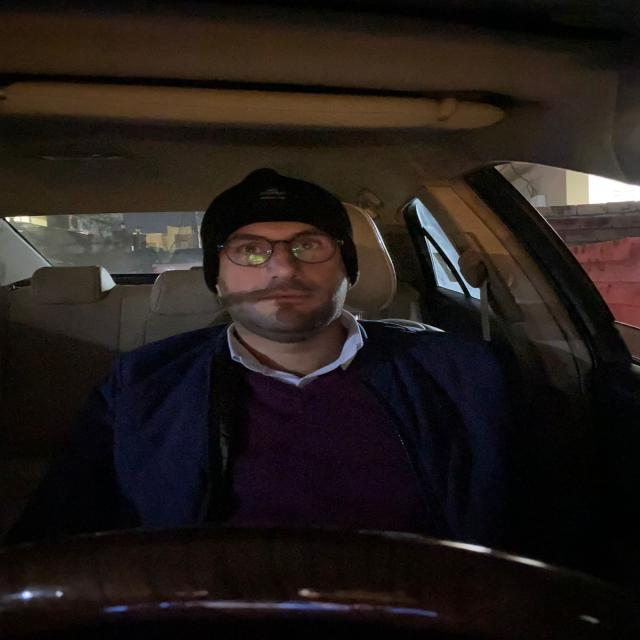person: (210, 195, 364, 328)
